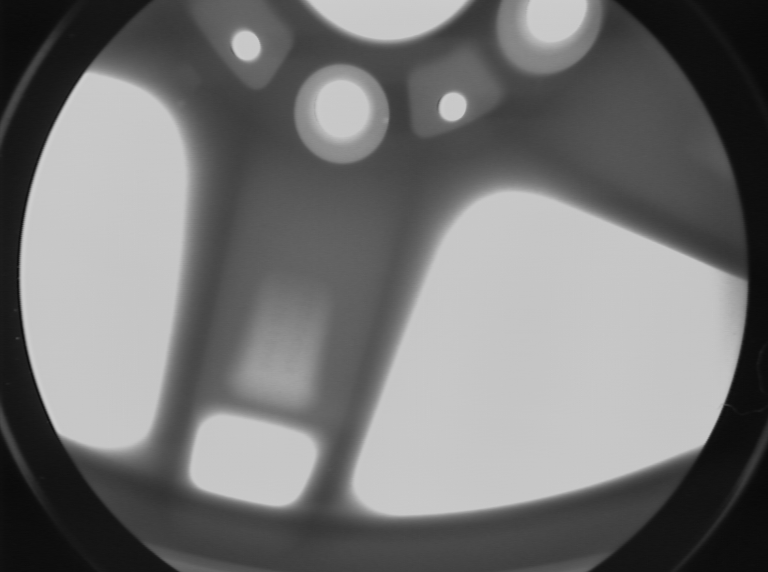defect: (173, 97, 190, 113)
